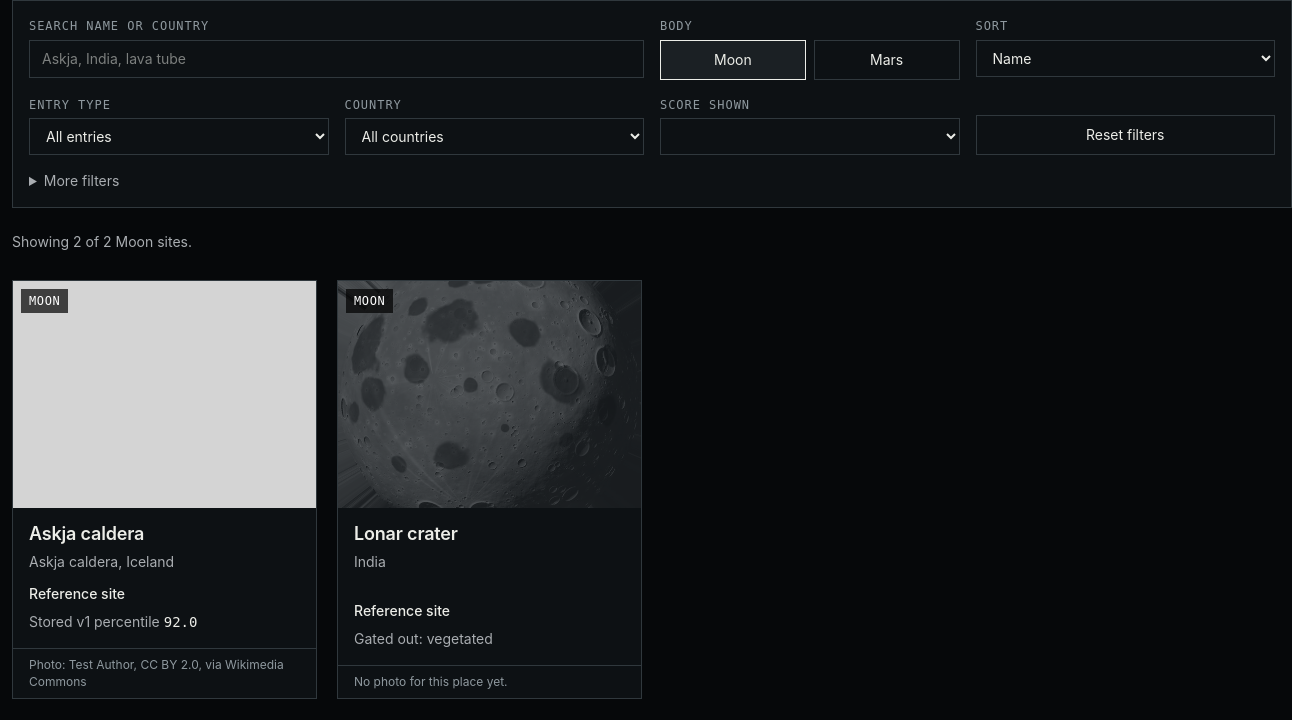
Scenario: Explorer gallery › says so when nothing matches
Type "zzz" into the search field labelled "Search name or country". click: (336, 59)
box: [29, 40, 644, 78]
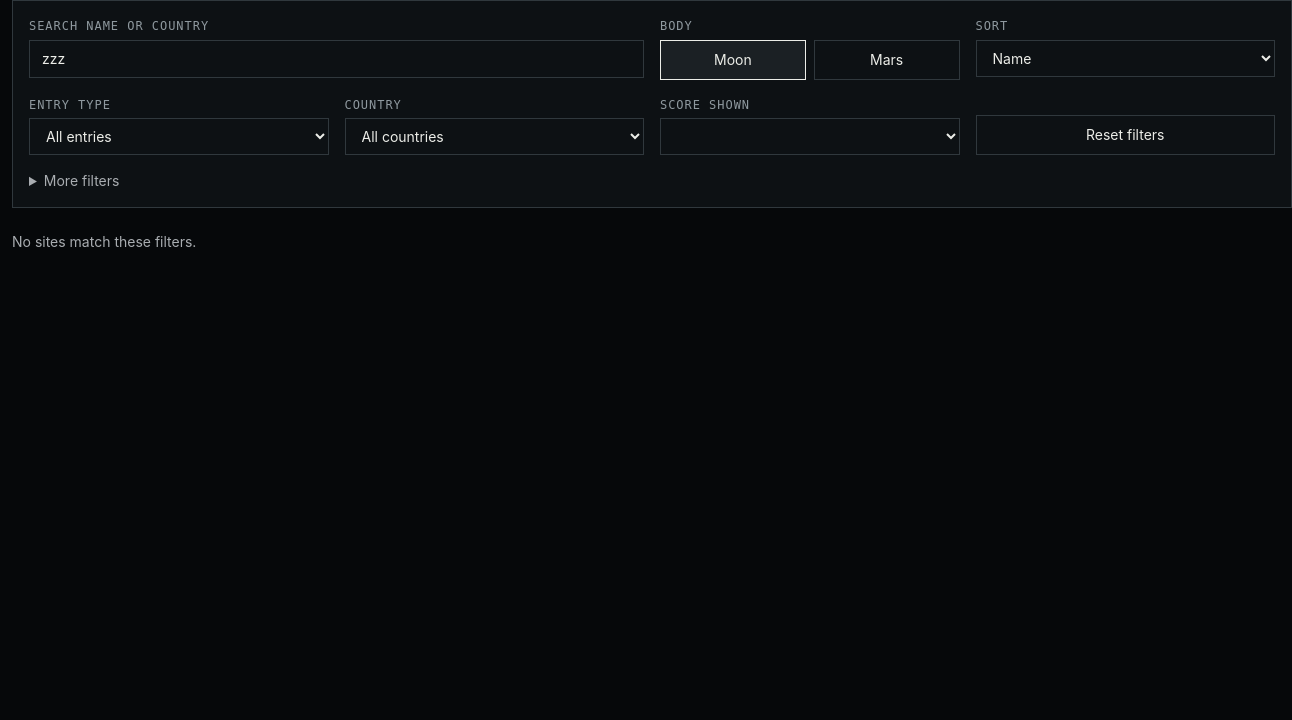
Check: the text "No sites match these filters." is shown, box [12, 233, 196, 250]
